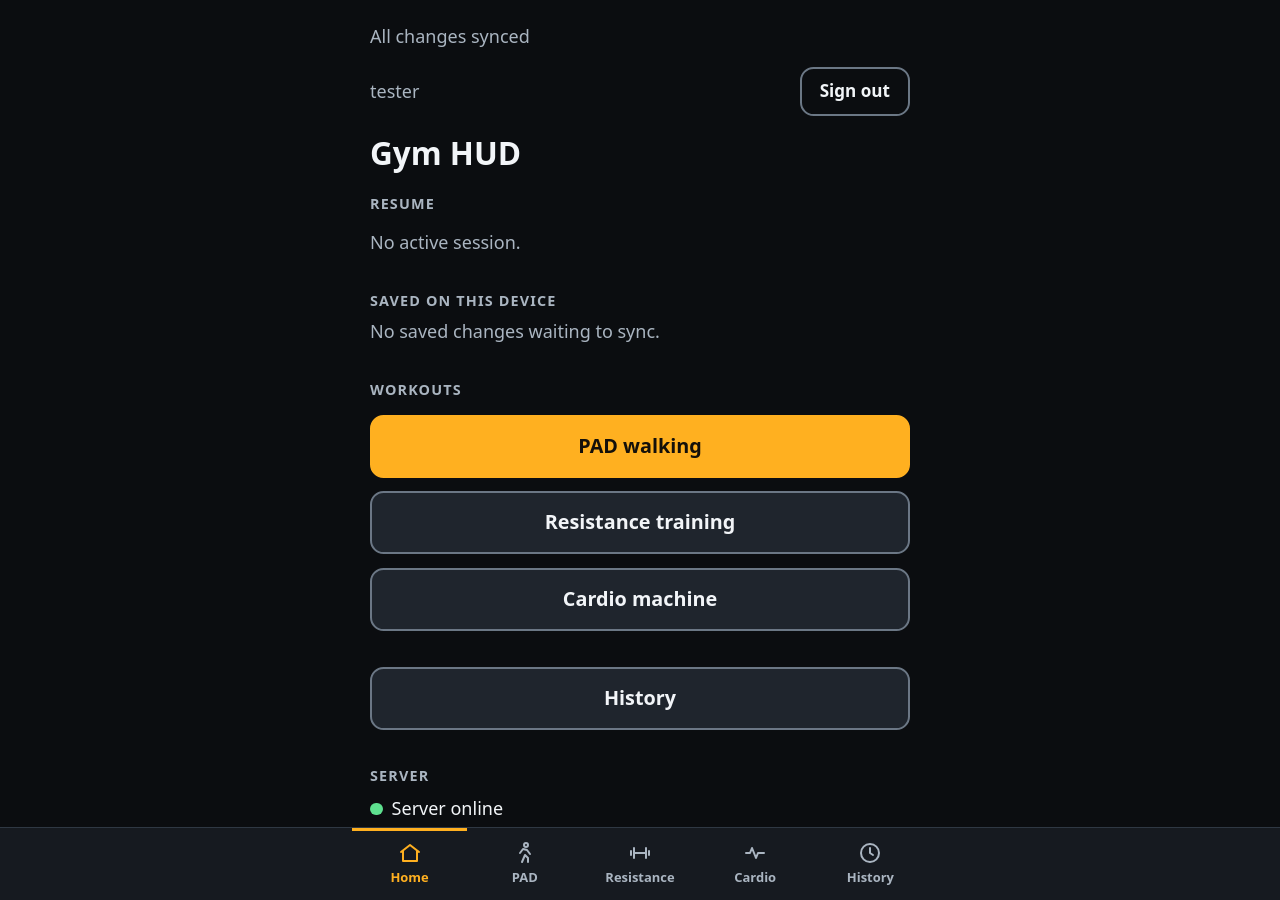
Scenario: navigation smoke test › navigates to History and shows its unavailable state
Click the link "History" in the row of "Home".
click(870, 864)  # box [847,841,894,886]
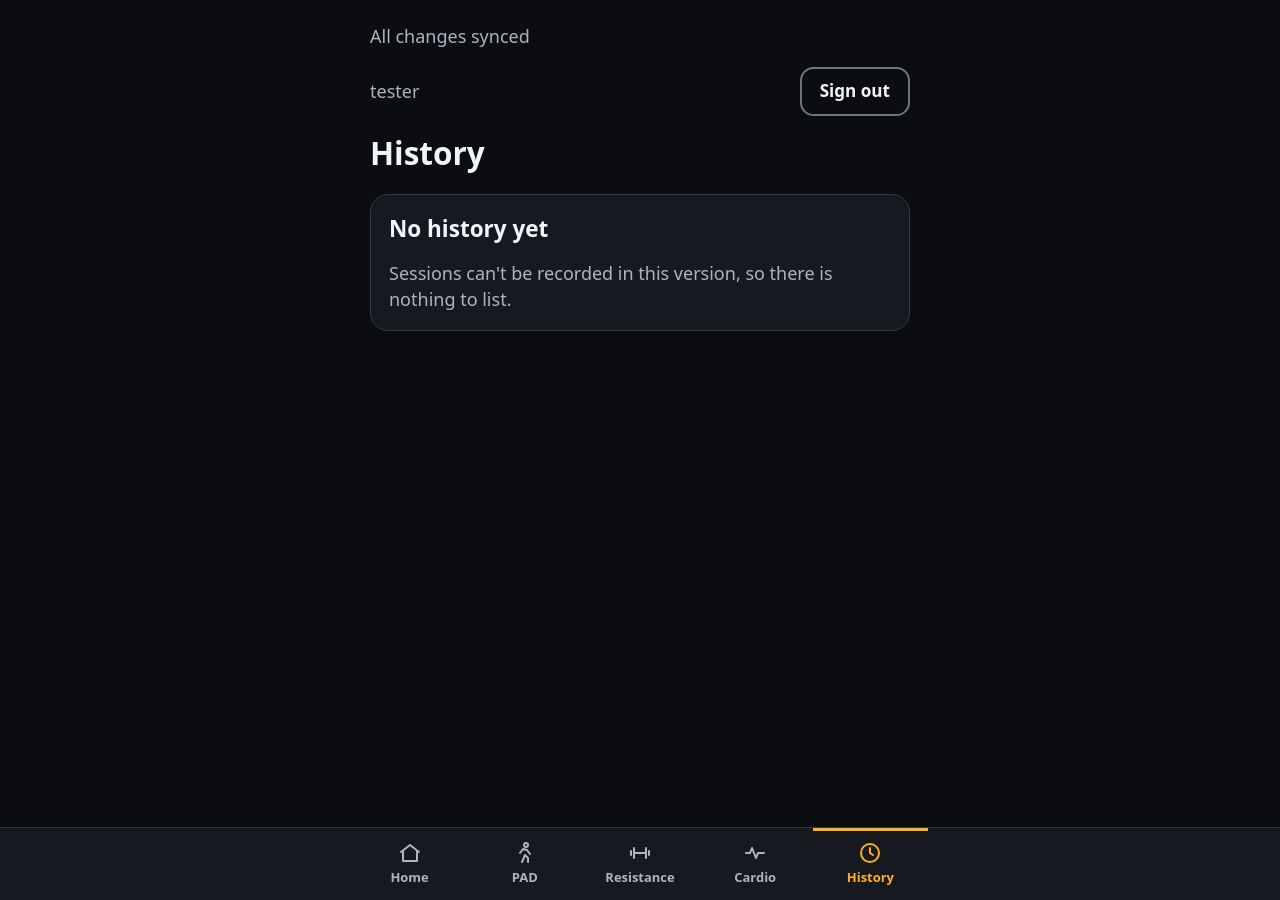
expect the text "No history yet" is shown: met, box [389,213,548,244]
